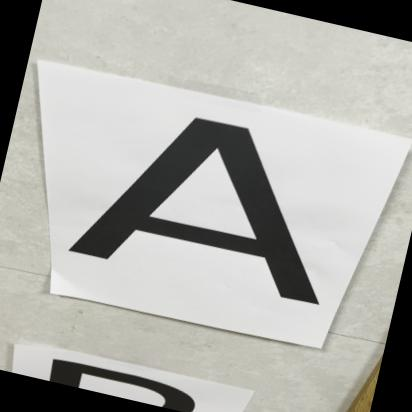seat: (53, 88, 380, 344)
